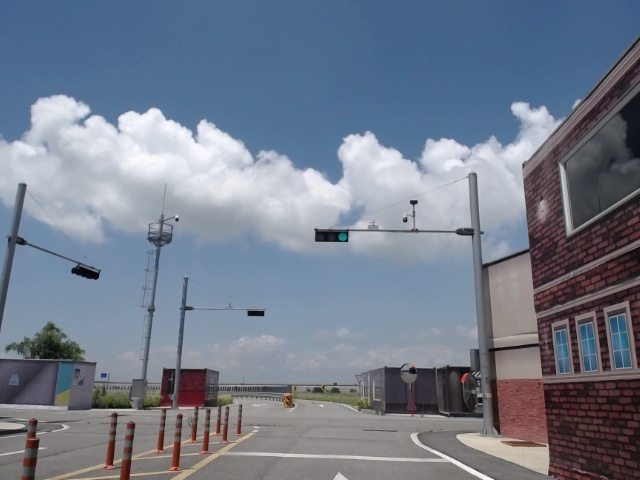green_3: (317, 230, 348, 243)
